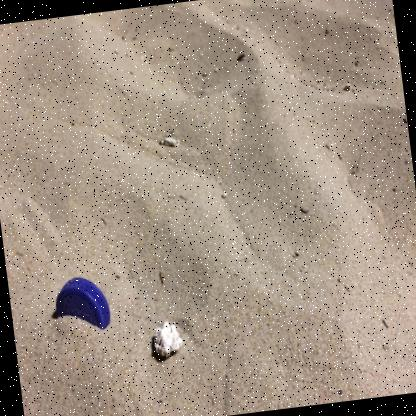Plastic bottle cap: (55, 277, 110, 329)
Styrofoam piece: (154, 321, 182, 356)
